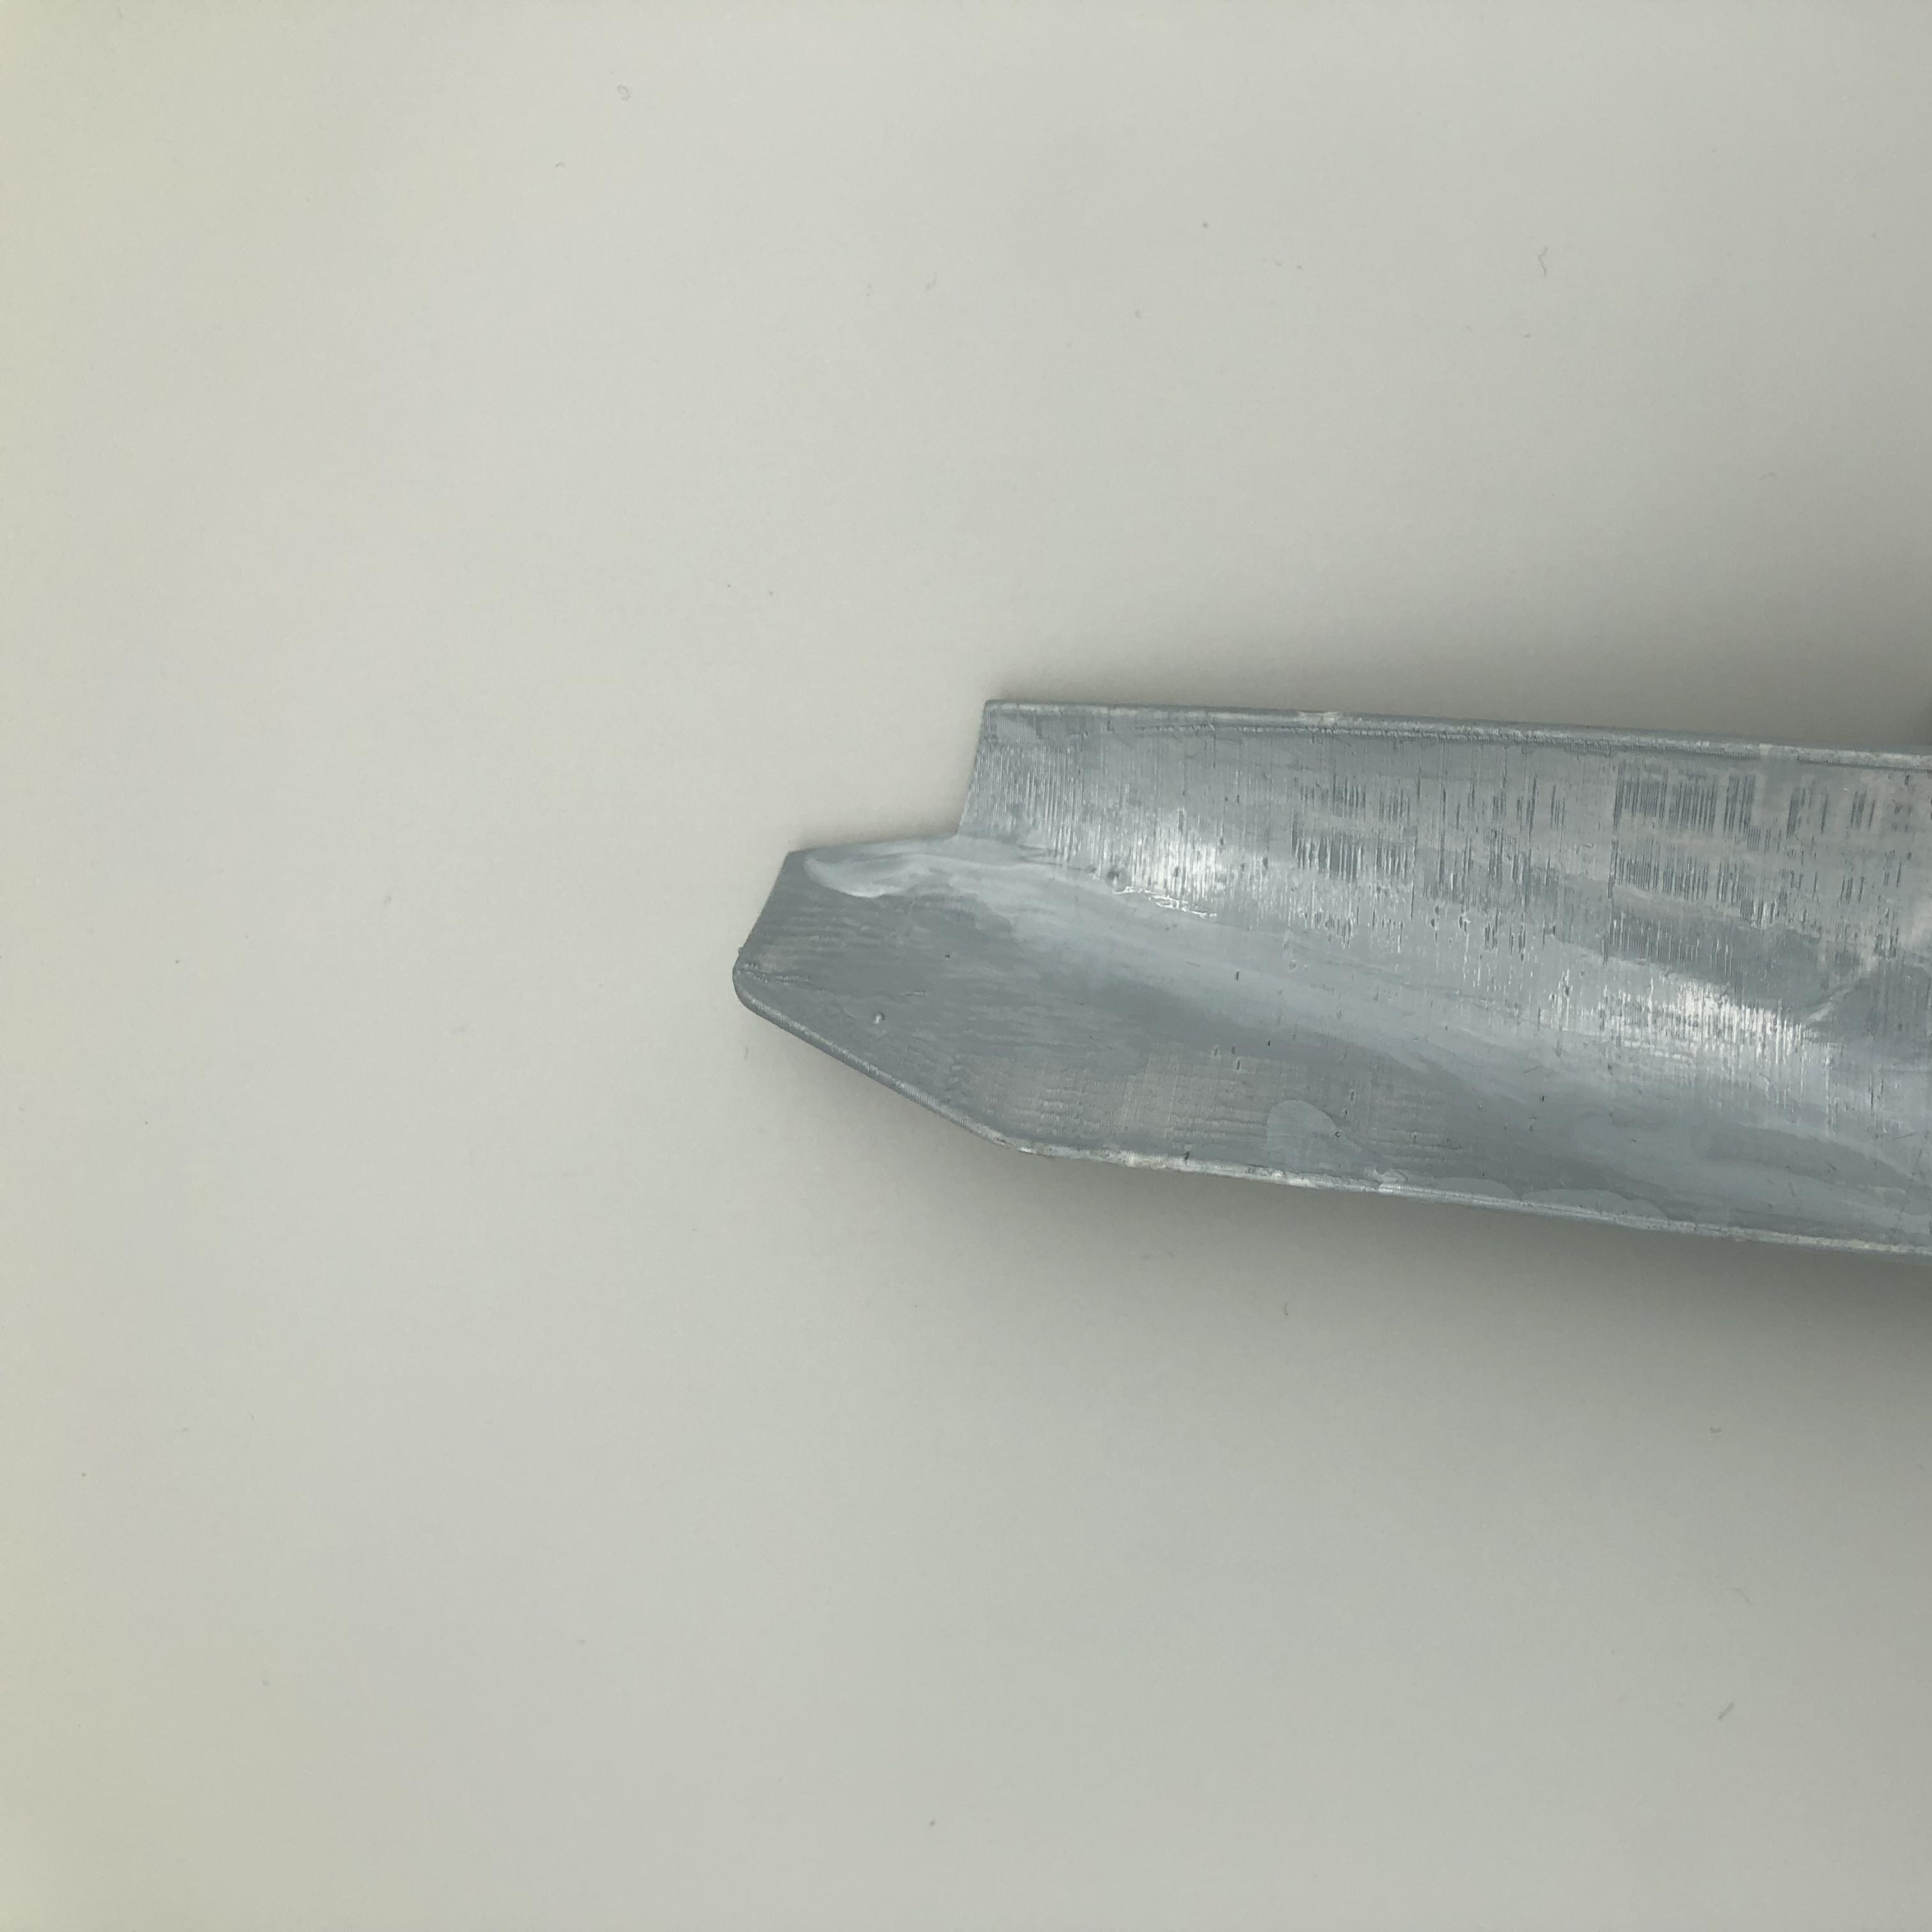fracture: (791, 706, 1033, 860)
